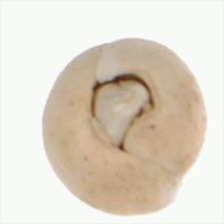L3: (86, 73, 154, 157)
L4: (41, 37, 207, 216)
